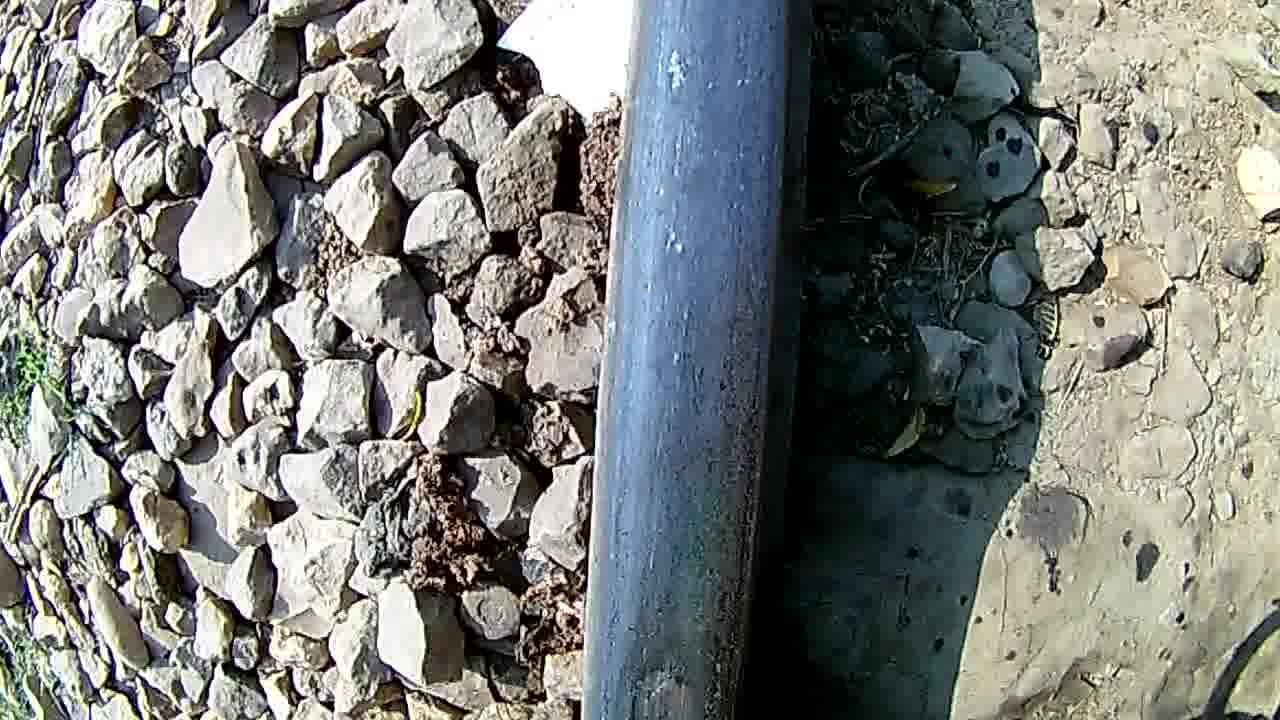crack: (598, 523, 752, 720)
